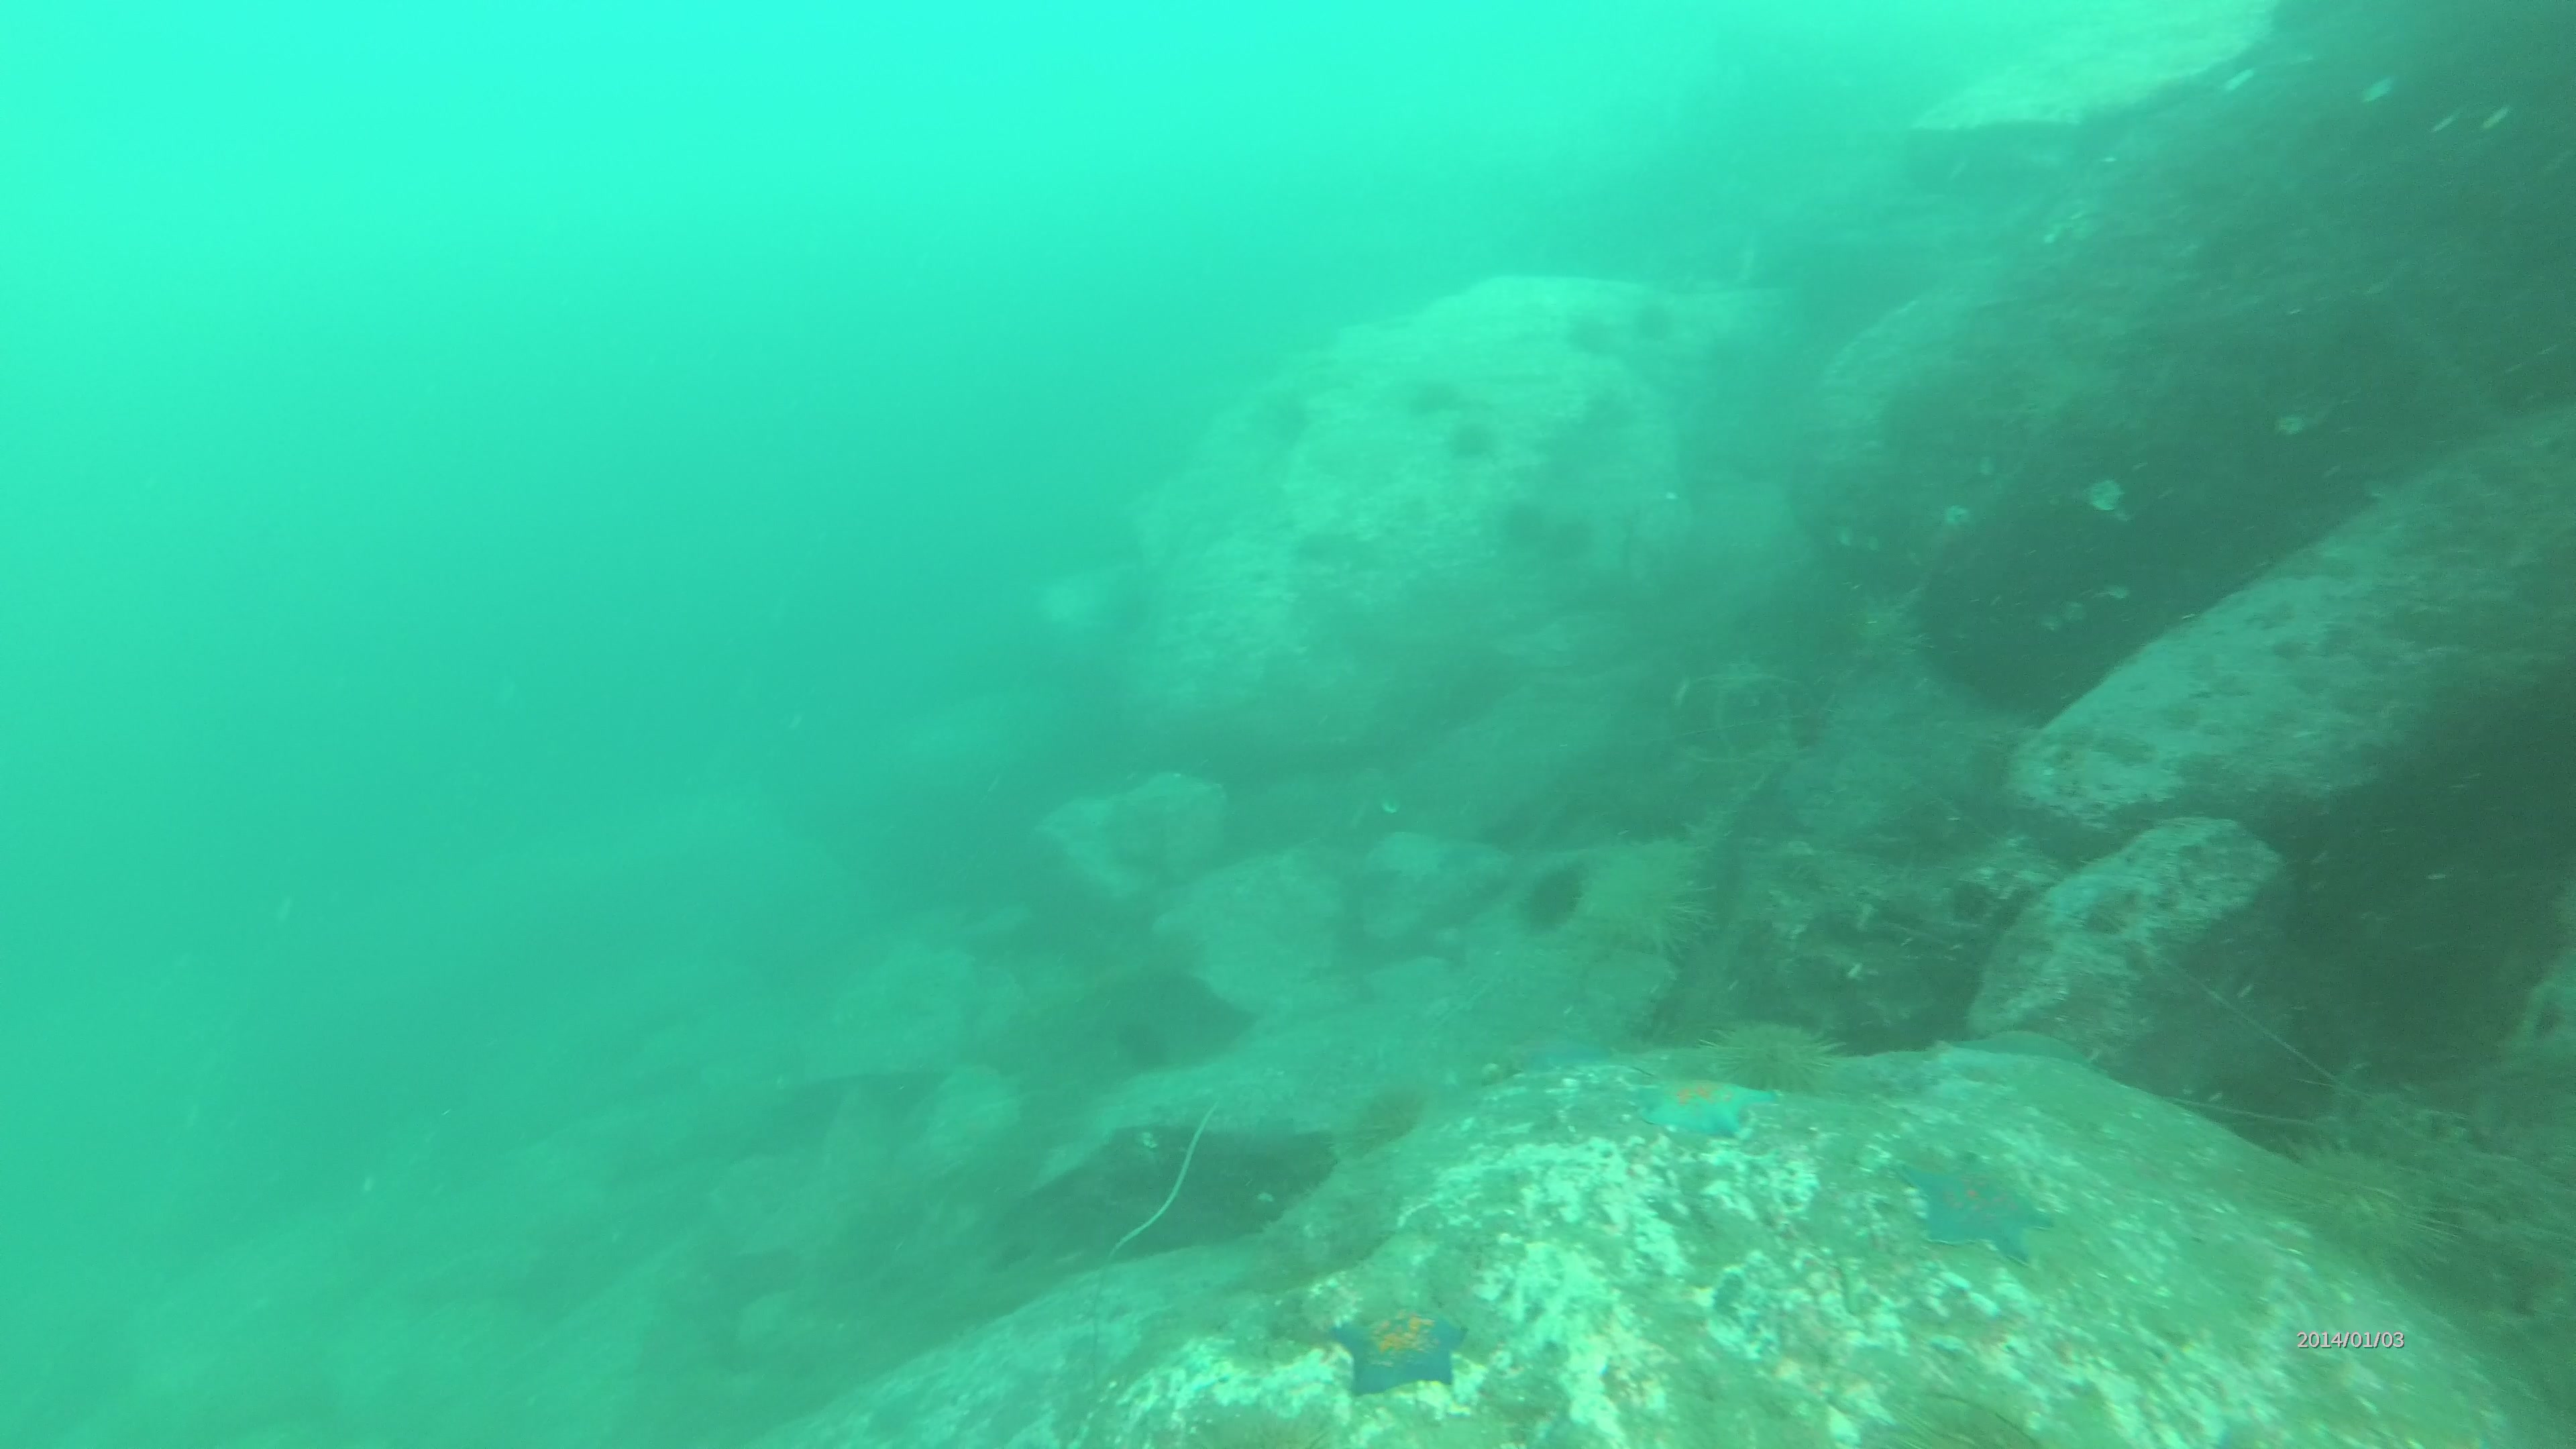echinus: (2265, 1131, 2465, 1260), (1569, 826, 1720, 970)
starfish: (1897, 1131, 2058, 1269), (1330, 1297, 1468, 1394), (1638, 1074, 1776, 1139)
